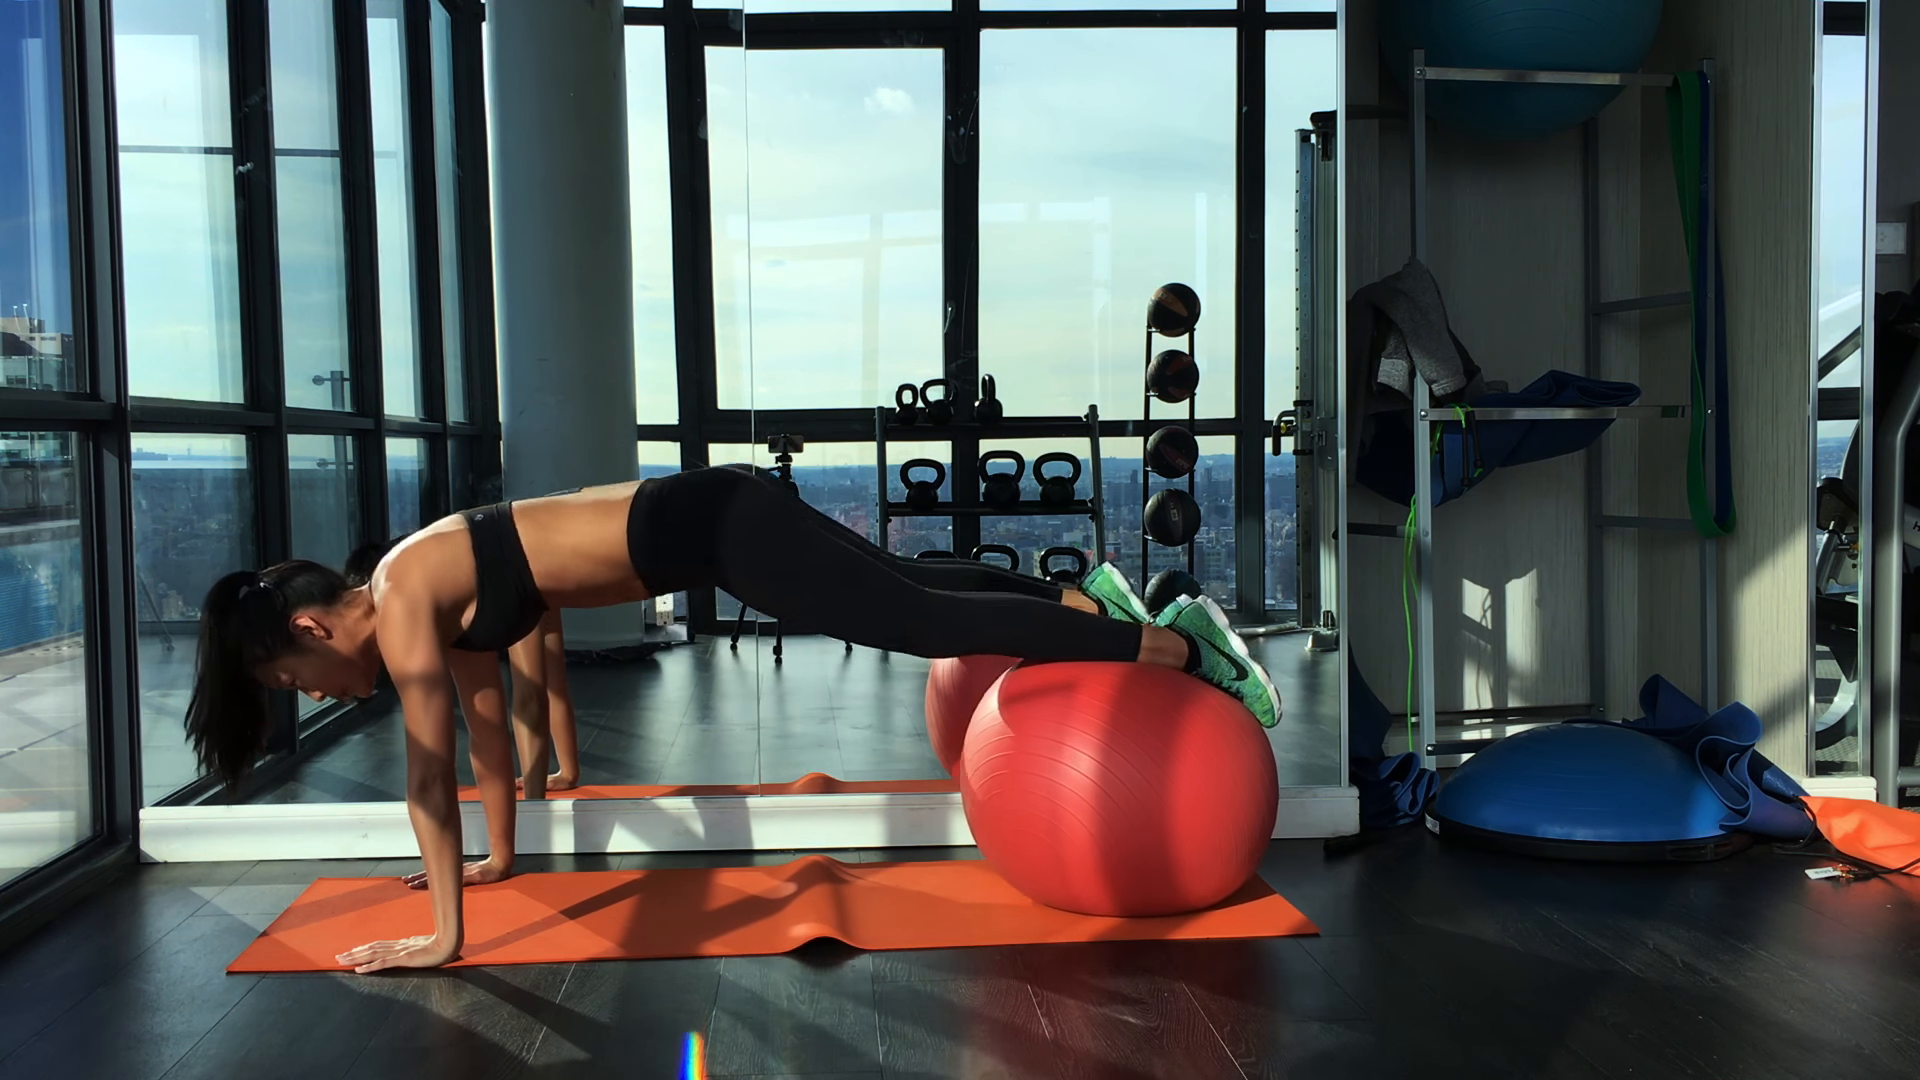yogaball: (951, 659, 1288, 924)
